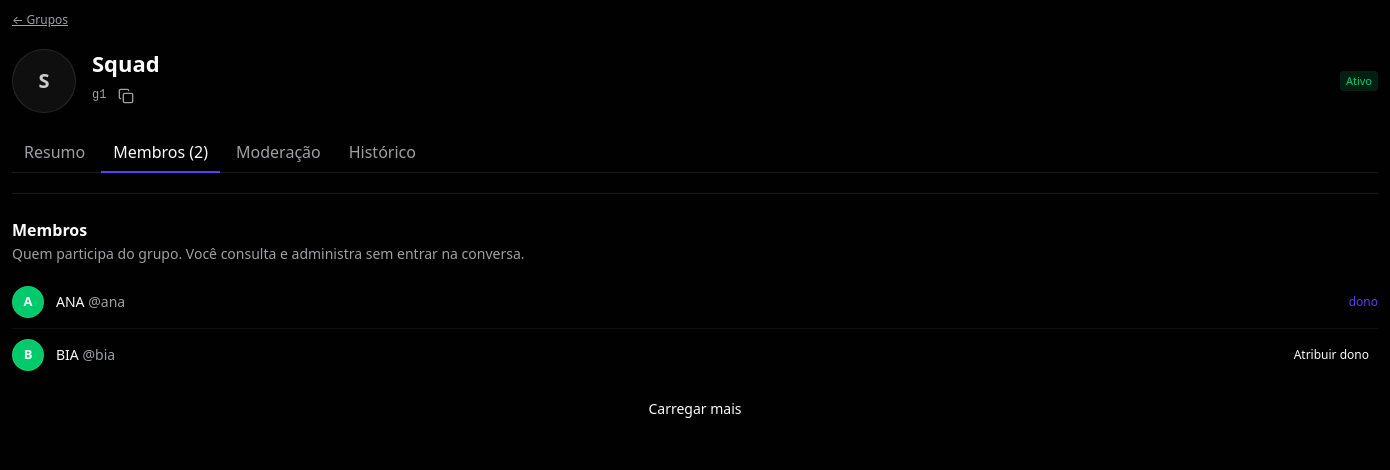
Test: GroupDetailPage › a failed "load more" keeps the members already shown and offers to try again
Expected: the link "BIA @bia" is shown, [56,345,115,364]
Click the button "Carregar mais" at (695, 409), box [638,393,752,425]
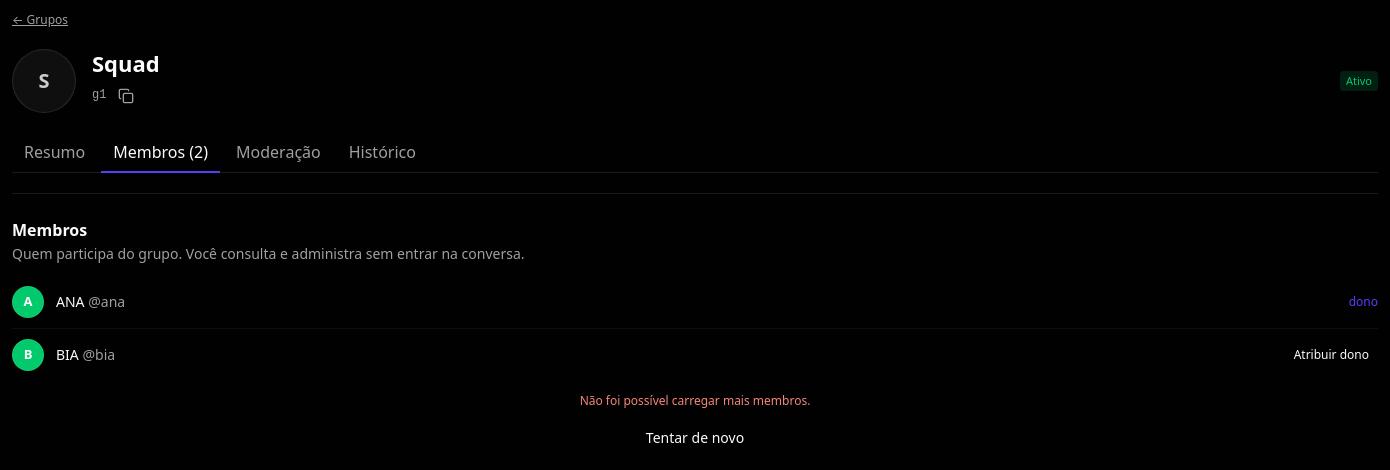
Expected: the link "BIA @bia" is shown, [56,345,115,364]
Expected: the text "Não foi possível carregar mais membros." is shown, [580,392,810,409]
Click the button "Tentar de novo" at (695, 438), box [635,422,755,454]
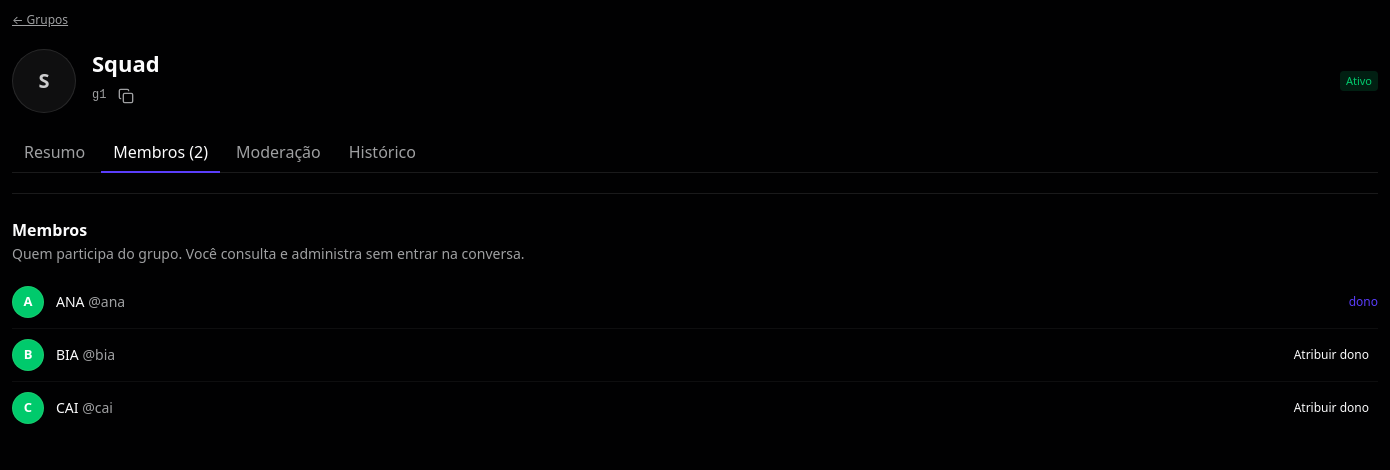
Expected: the link "BIA @bia" is shown, [56,345,115,364]
Expected: the link "CAI @cai" is shown, [56,398,113,417]
Expected: the text "Não foi possível carregar mais membros." is gone
